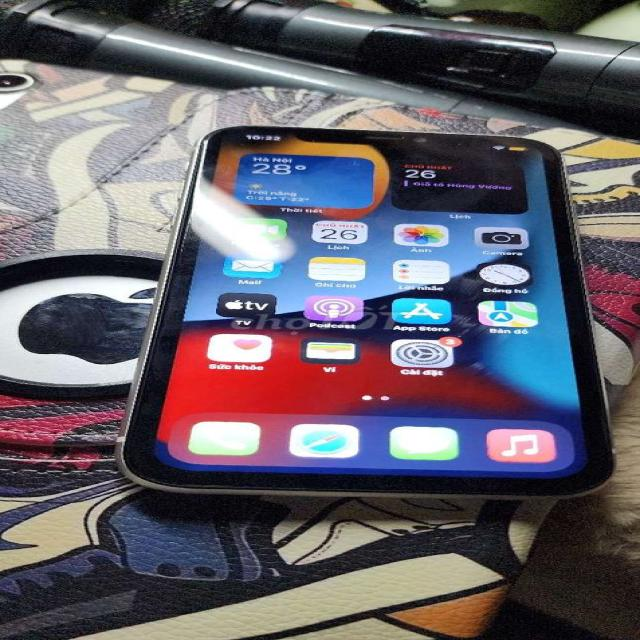gen_11: (111, 115, 605, 498)
